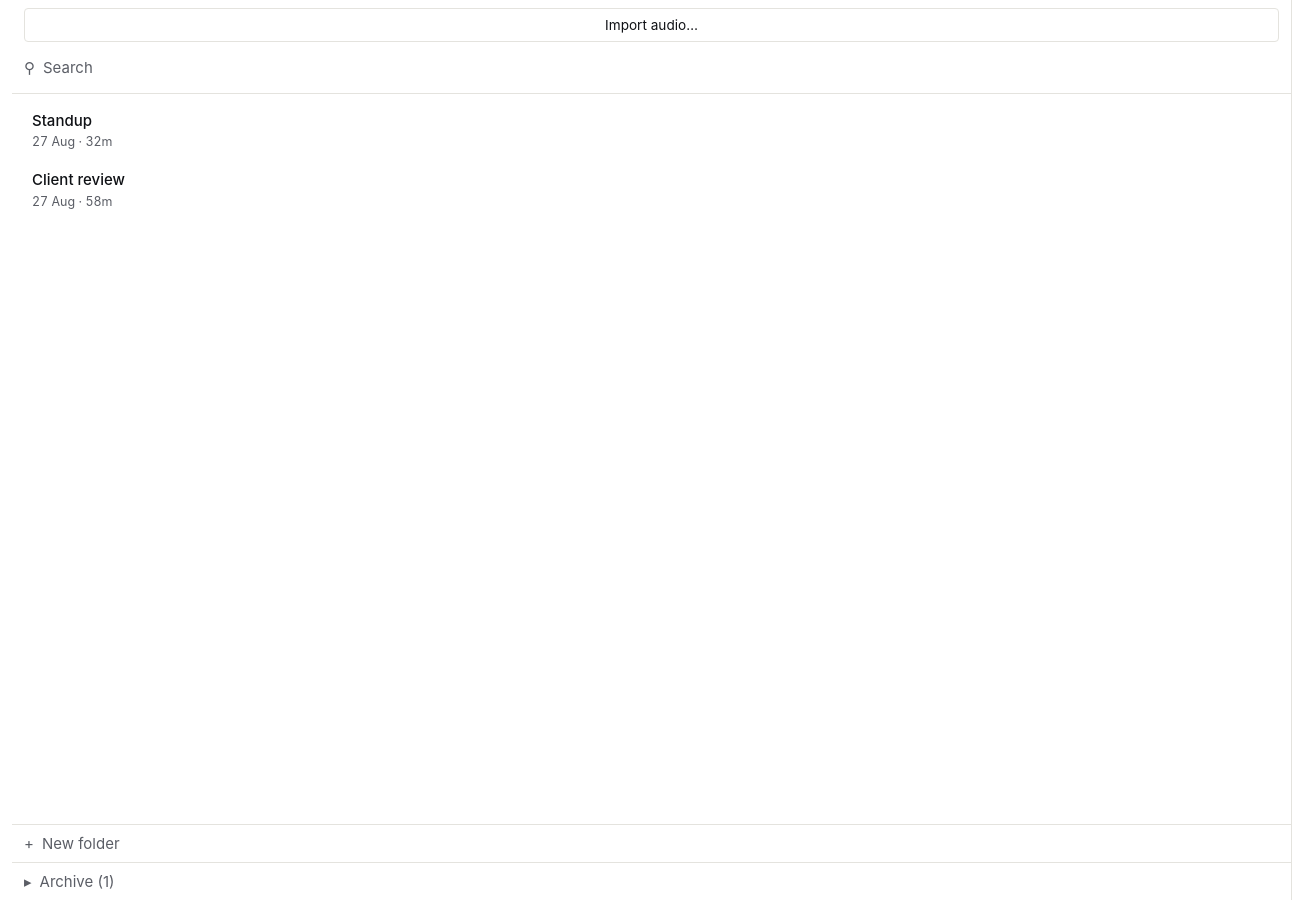
Test: MeetingSidebarComponent › shows a no-match message when the search excludes every meeting
The width and height of the screenshot is (1304, 900).
Type "nonexistent meeting name" into the search field with placeholder "Search". click: (661, 68)
box: [43,54,1279,81]
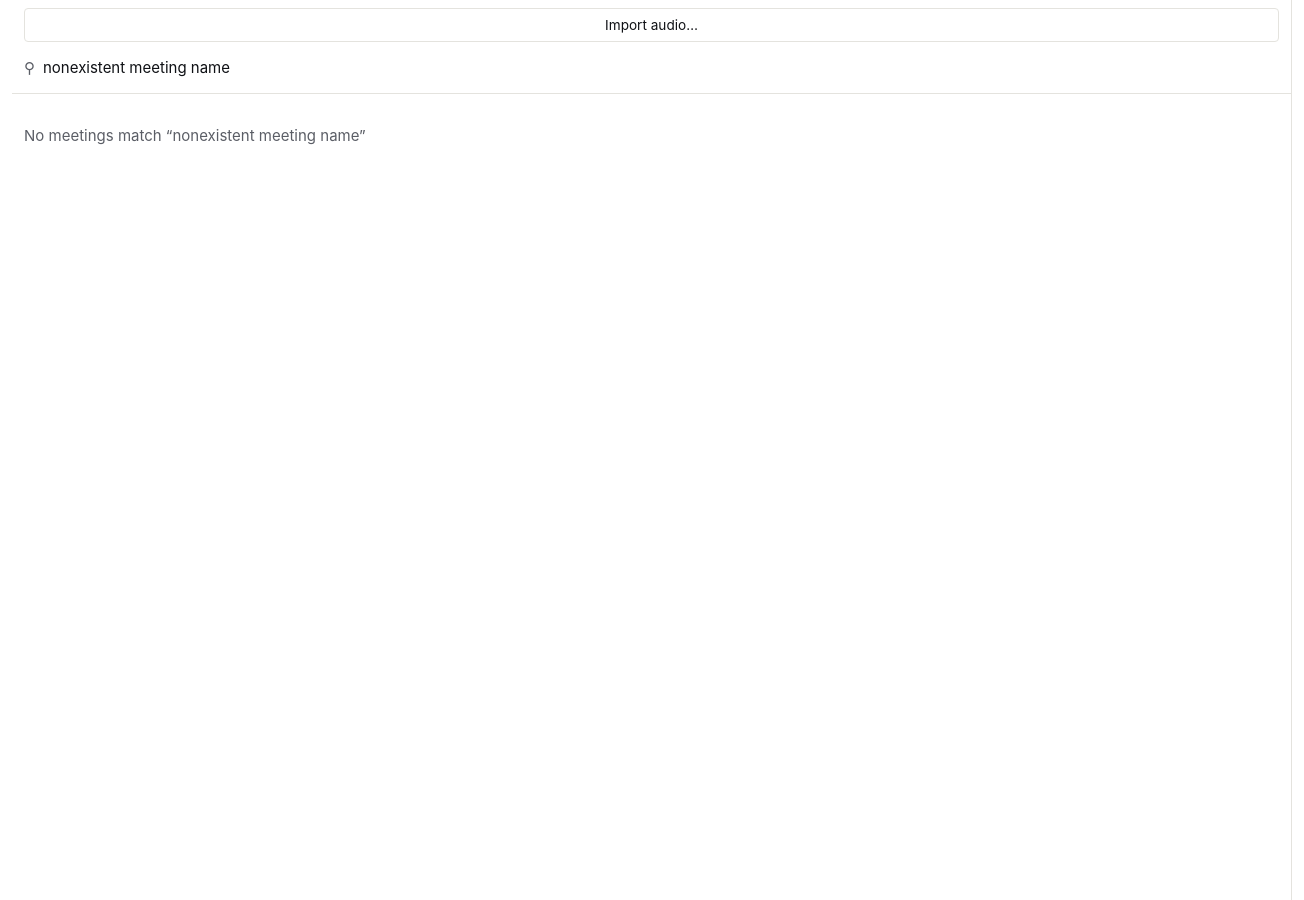
Now the text "No meetings match “nonexistent meeting name”" is shown, box [24,126,366,145]
